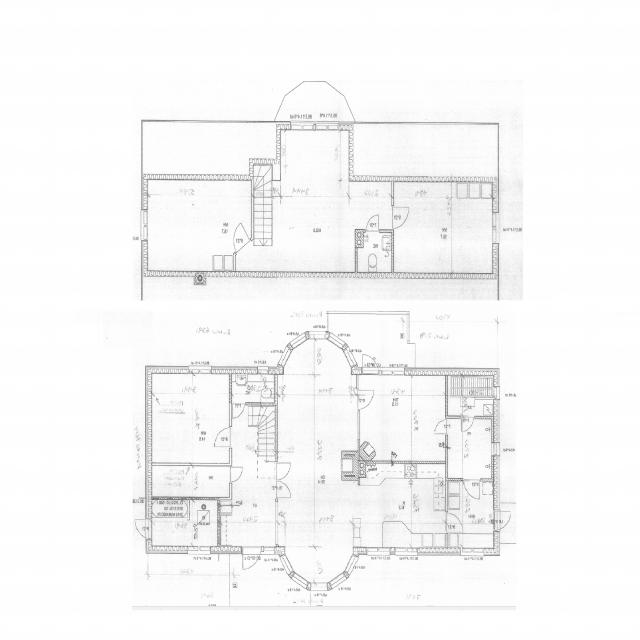door: (227, 222, 250, 254), (243, 545, 261, 576), (363, 347, 379, 375), (494, 511, 514, 530), (391, 208, 410, 228), (132, 520, 152, 538), (464, 478, 479, 502), (446, 513, 462, 533), (358, 390, 374, 409), (216, 428, 232, 446), (276, 480, 291, 498), (276, 463, 291, 480), (366, 213, 379, 232), (462, 416, 473, 434), (233, 403, 244, 421), (435, 419, 448, 434), (229, 467, 242, 482)
